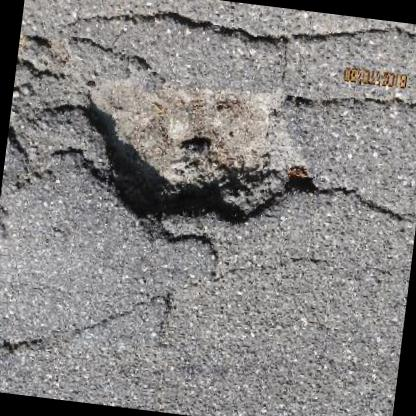pothole: (66, 66, 328, 249)
